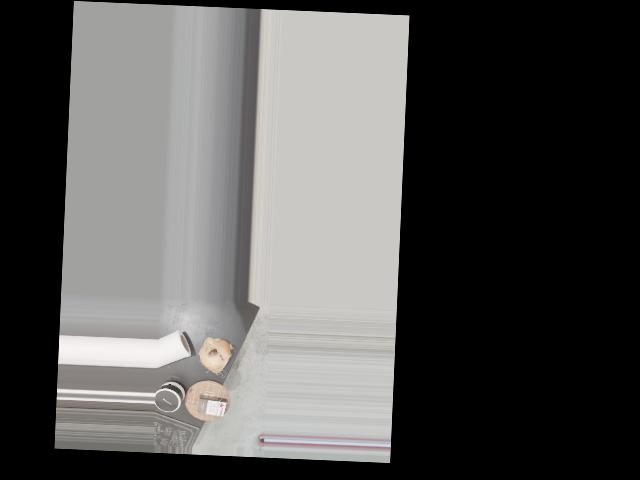onion: (197, 335, 235, 375)
